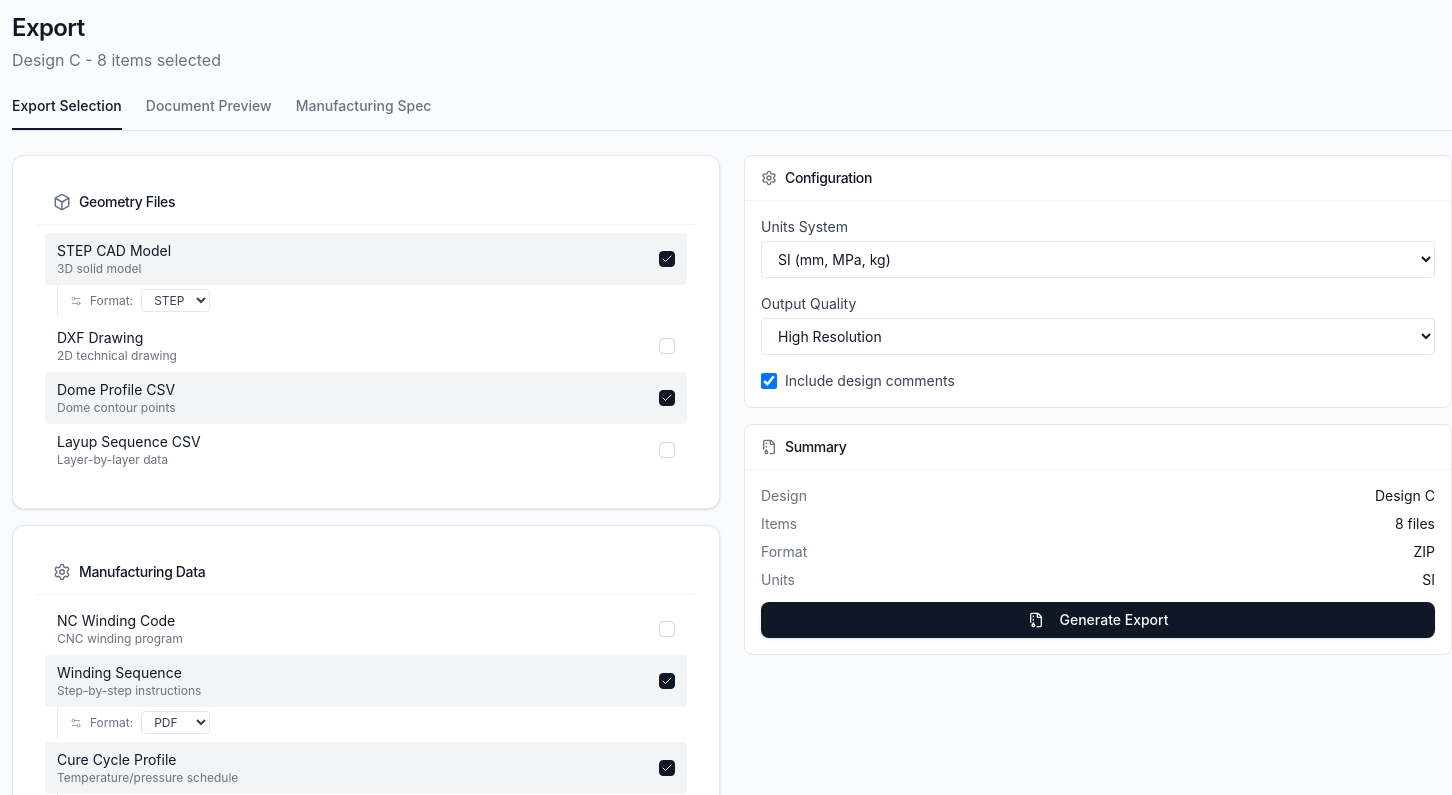
Test: ExportScreen › Format Selection › should deselect already selected option
Find and click a selected option
Click the text "STEP CAD Model". click: (114, 251)
box: [57,241,171,261]
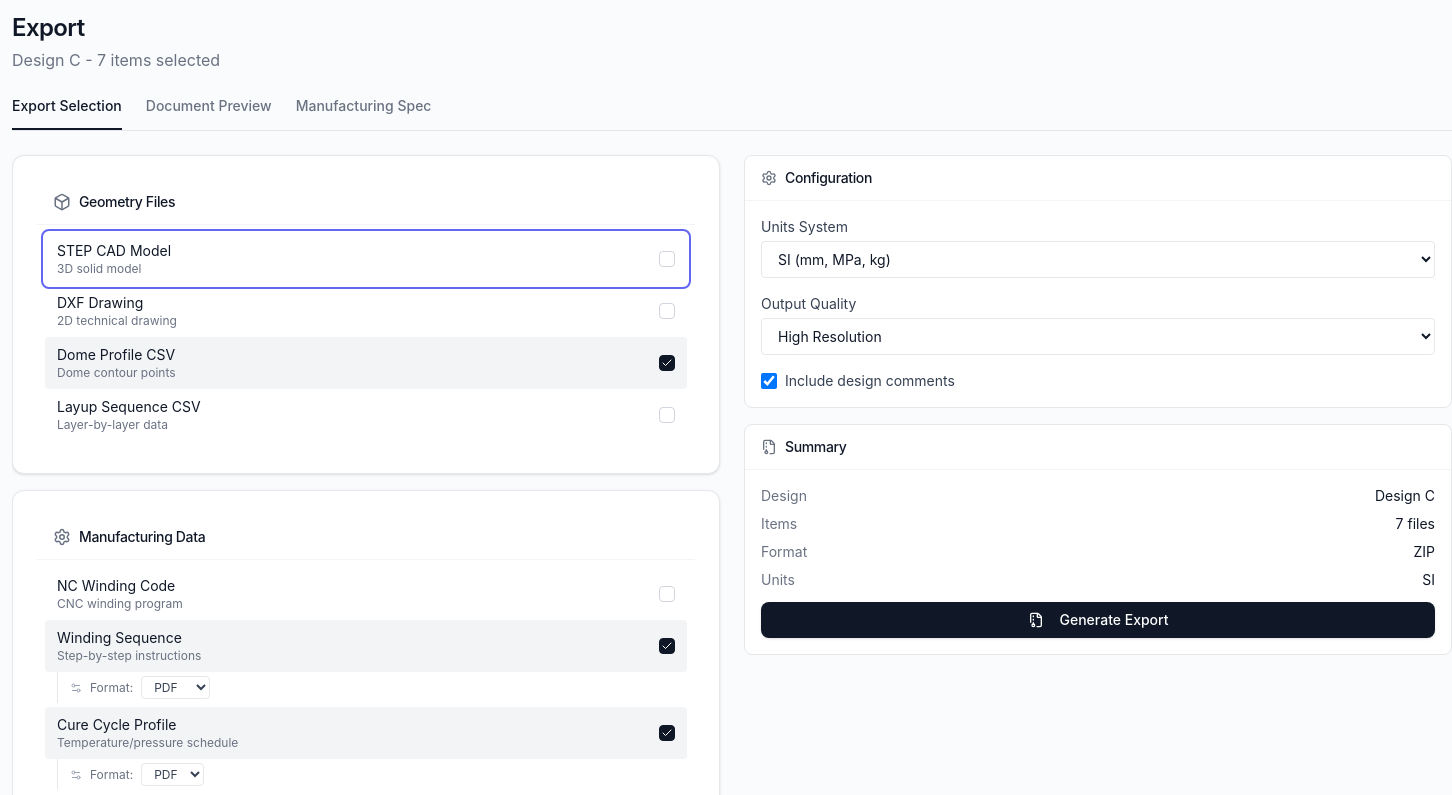
Expected: the text "Design C - 7 items selected" is shown, [12,48,220,72]
